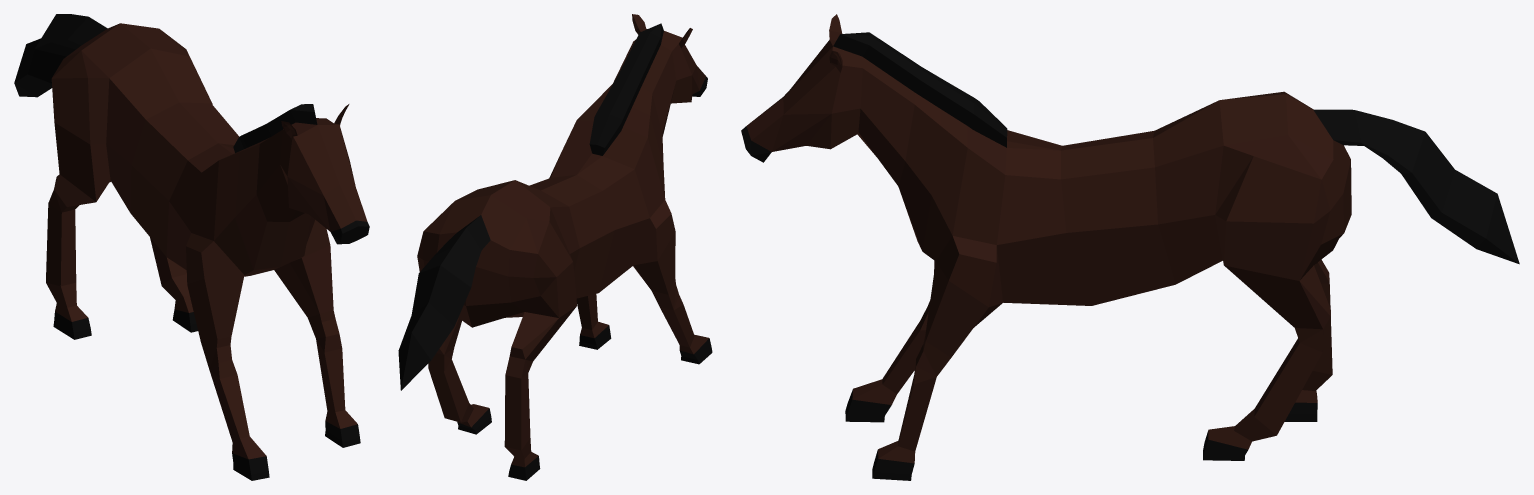
The model's file is Horse_000027.obj.
3 views of the same model, side by side, from view 1: azimuth 30°, elevation 25°; view 2: azimuth 150°, elevation 25°; view 3: azimuth 270°, elevation 25° (orthographic). The views are drawn at different scales.
Visible parts, largest first — view 1: Horse_Cylinder; view 2: Horse_Cylinder; view 3: Horse_Cylinder.
Boxes of the visible parts, left/top/right/bottom form: Horse_Cylinder: left=14, top=14, right=369, bottom=480; Horse_Cylinder: left=398, top=14, right=712, bottom=480; Horse_Cylinder: left=741, top=14, right=1519, bottom=480.
Size of the model in its own units: 2.55 by 6.18 by 10.56.
